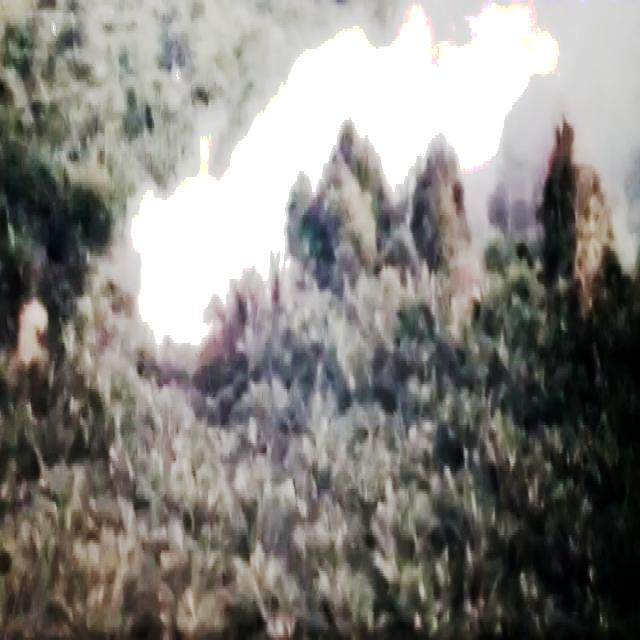asap: (120, 6, 640, 375)
